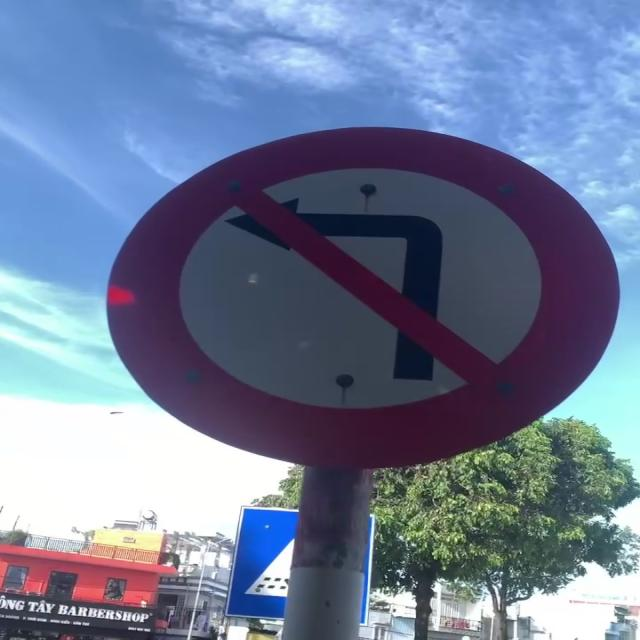Cam_Re_Trai: (99, 123, 620, 484)
